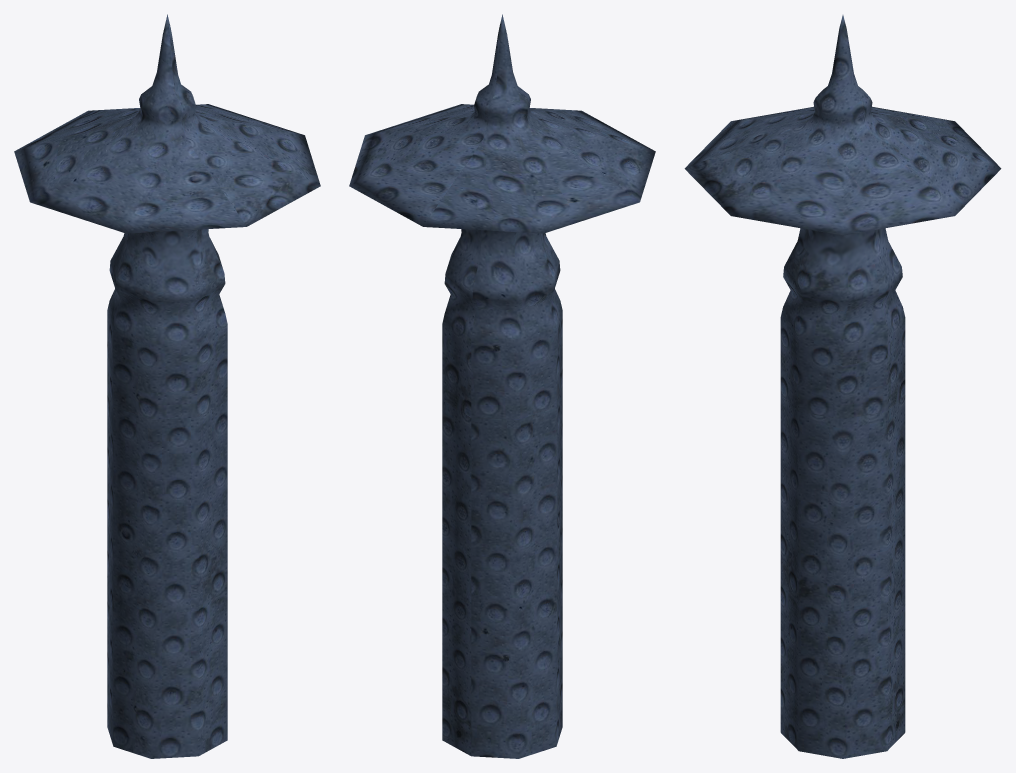
The model's file is tru.fbx.
3 views of the same model, side by side, from view 1: azimuth 30°, elevation 25°; view 2: azimuth 150°, elevation 25°; view 3: azimuth 270°, elevation 25° (orthographic).
Parts seen in each view (by area): view 1: Tru_1:Group2; view 2: Tru_1:Group2; view 3: Tru_1:Group2.
Boxes of the visible parts, left/top/right/bottom form: Tru_1:Group2: left=14, top=14, right=320, bottom=758; Tru_1:Group2: left=349, top=14, right=655, bottom=758; Tru_1:Group2: left=684, top=15, right=1001, bottom=758.
Bounding box in the file's own units: 2.05 × 5.12 × 2.05.
1 material, 1 textured.
